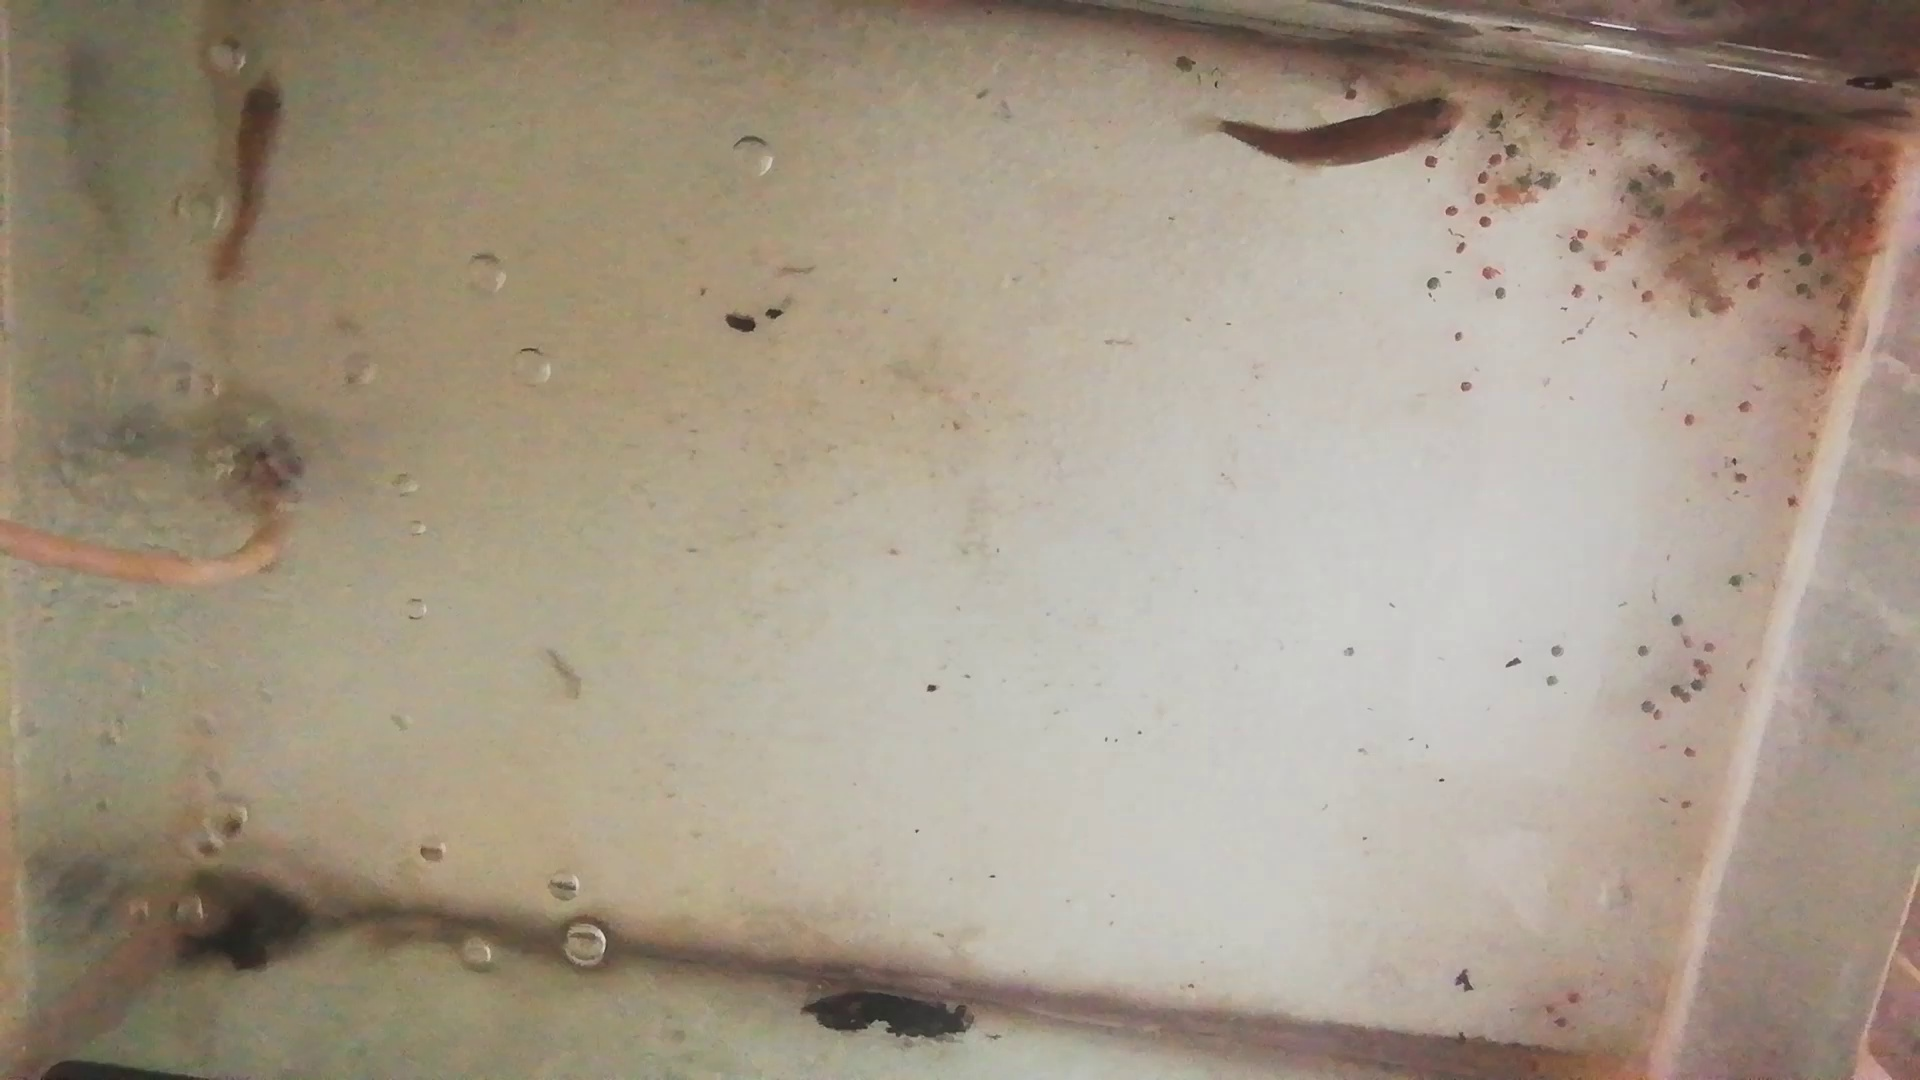fish: (1221, 94, 1470, 170), (214, 73, 285, 284)
